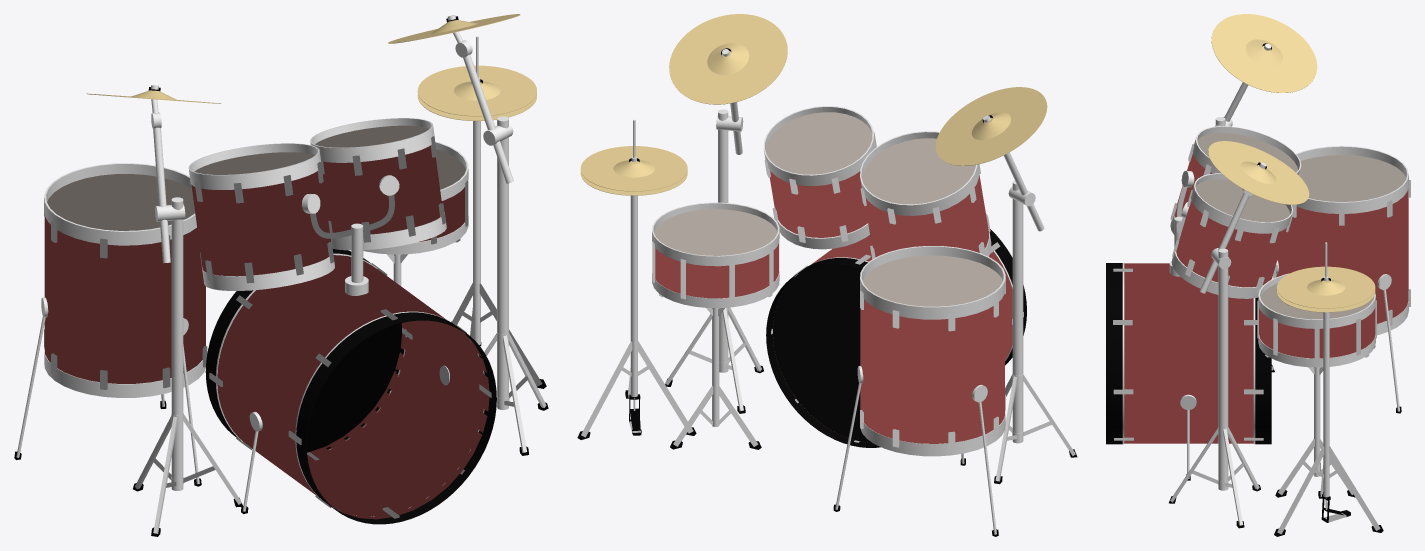
File: batterie.glb
3 renders of one model, left to right at view 1: azimuth 30°, elevation 25°; view 2: azimuth 150°, elevation 25°; view 3: azimuth 270°, elevation 25°, orthographic. The views are drawn at different scales.
Parts seen in each view (by area): view 1: batterie; view 2: batterie; view 3: batterie.
Part boxes in pixels (x1,y1,x2,y2): batterie: (14,14,548,536); batterie: (577,14,1077,536); batterie: (1106,14,1410,536).
Size of the model in its own units: 1.46 by 1.2 by 0.9638.
